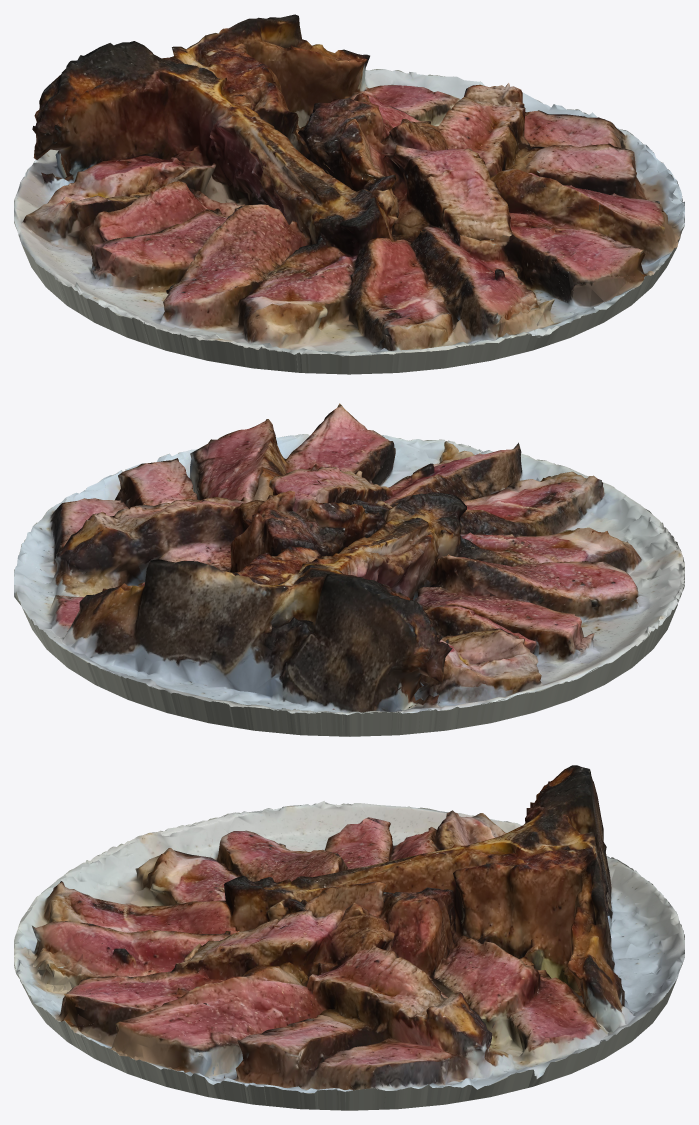
The model's file is steak-fiorentina-tbone.glb.
The picture shows the model from 3 angles, top to bottom: view 1: azimuth 30°, elevation 25°; view 2: azimuth 150°, elevation 25°; view 3: azimuth 270°, elevation 25°; orthographic projection.
Visible parts, largest first — view 1: FlorenceSteak_Model_3, FlorenceSteak_Model_3.001; view 2: FlorenceSteak_Model_3, FlorenceSteak_Model_3.001; view 3: FlorenceSteak_Model_3, FlorenceSteak_Model_3.001.
Boxes of the visible parts, x1,y1,x2,y2 form: FlorenceSteak_Model_3: [14, 14, 684, 355]; FlorenceSteak_Model_3.001: [14, 69, 684, 374]; FlorenceSteak_Model_3: [14, 403, 684, 715]; FlorenceSteak_Model_3.001: [14, 434, 684, 736]; FlorenceSteak_Model_3: [14, 765, 684, 1093]; FlorenceSteak_Model_3.001: [14, 803, 684, 1110].
Size of the model in its own units: 0.25 by 0.0673 by 0.2493.
Materials: 2 (1 with a texture image).
